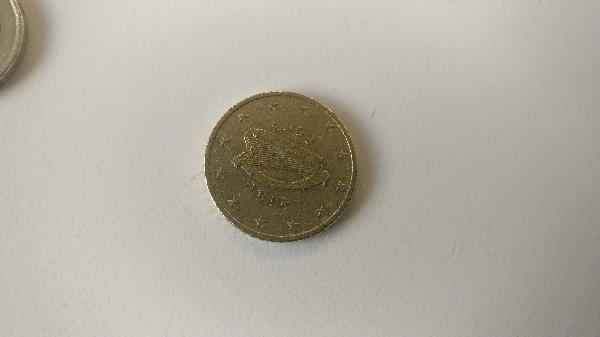Fifty Cent: (203, 90, 358, 243)
